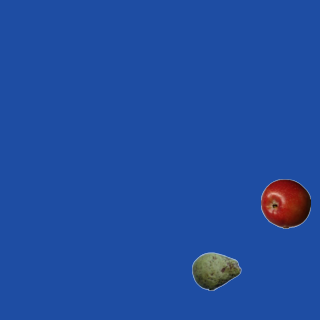Apple Braeburn: (260, 178, 310, 228)
Pear Stone: (191, 246, 241, 296)
